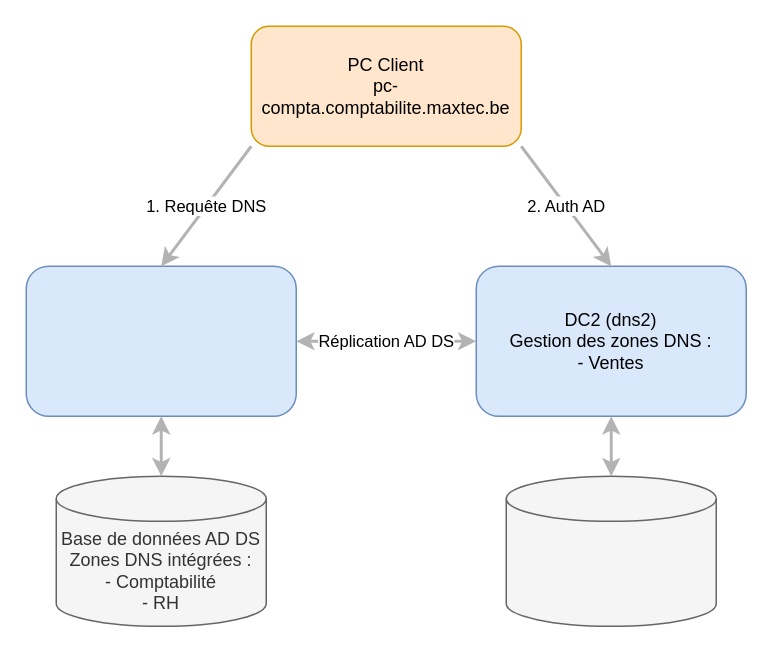
This 773x653 diagram has some shape labels left out. Each missing label, with the centre of its shape:
Base de données AD DS Zones DNS intégrées : - Ventes: the point at 610,550
DC1 (dns1) Gestion des zones DNS : - Comptabilité - RH: the point at 160,340
